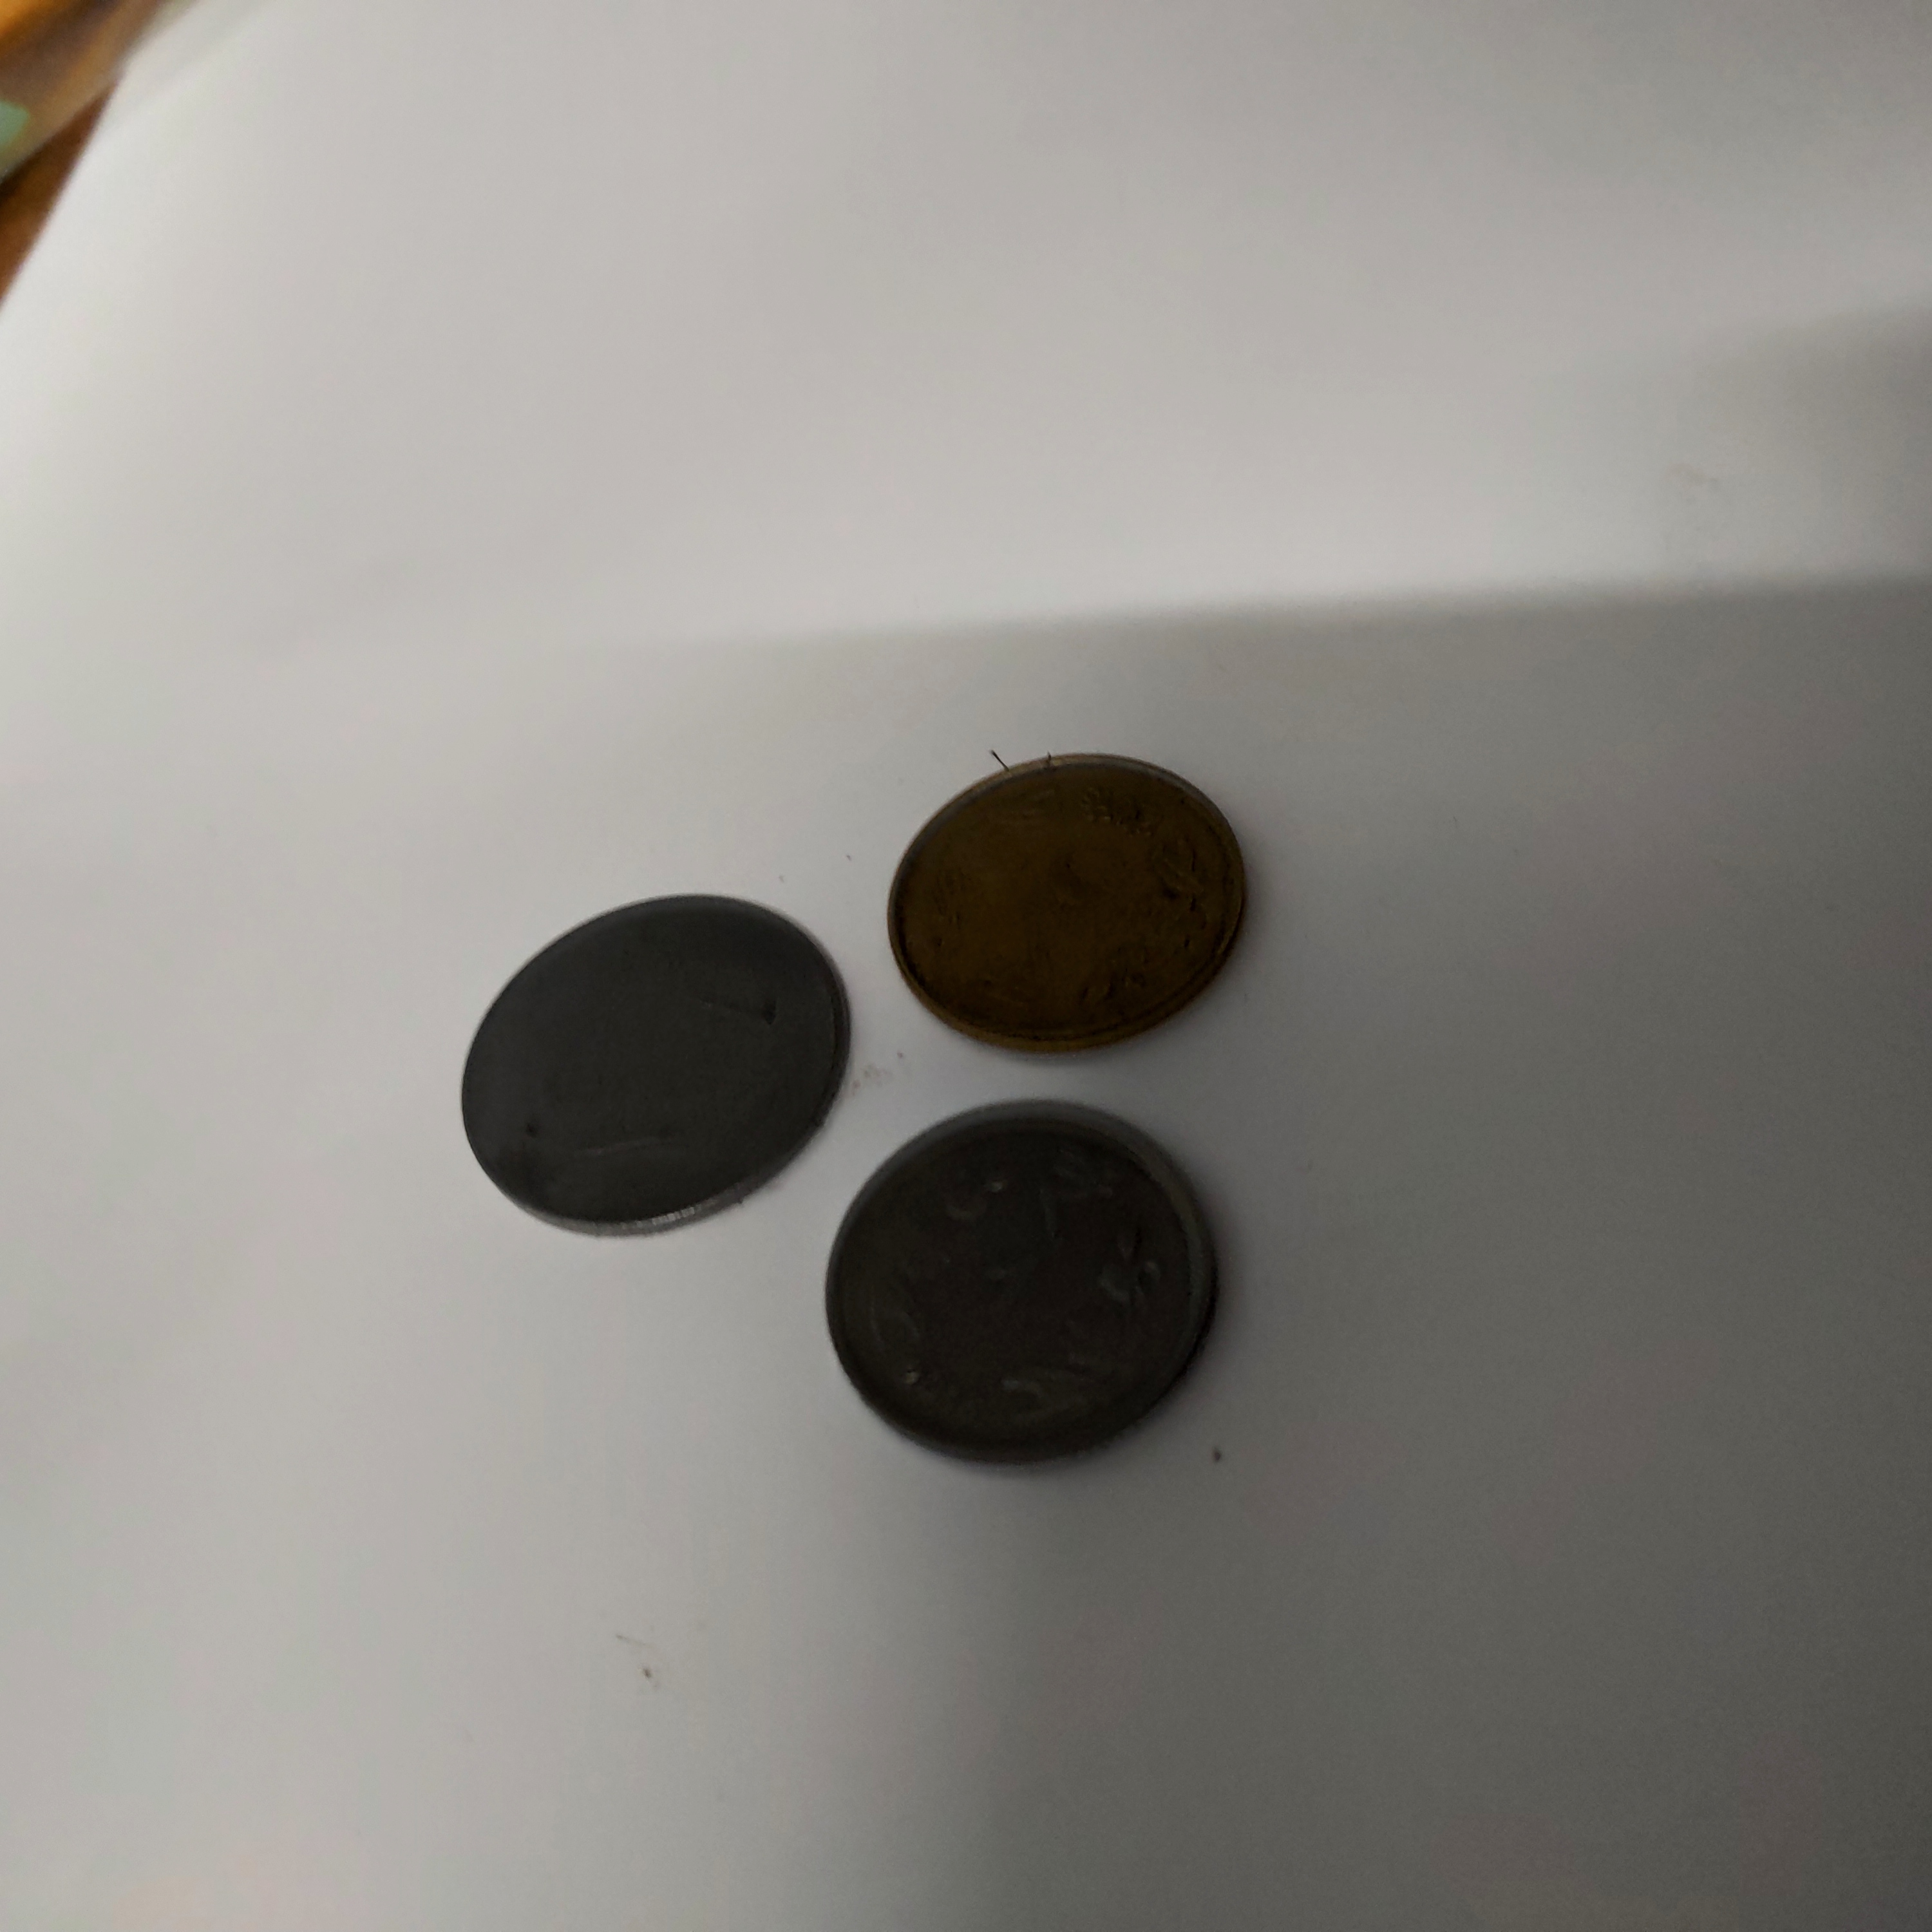coin: (817, 1084, 1249, 1497), (400, 878, 863, 1242), (875, 743, 1266, 1059)
